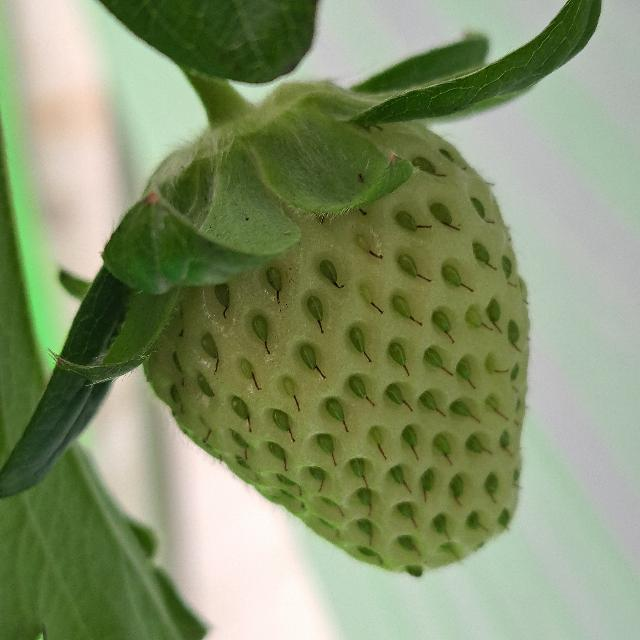Health_25: (142, 120, 530, 572)
